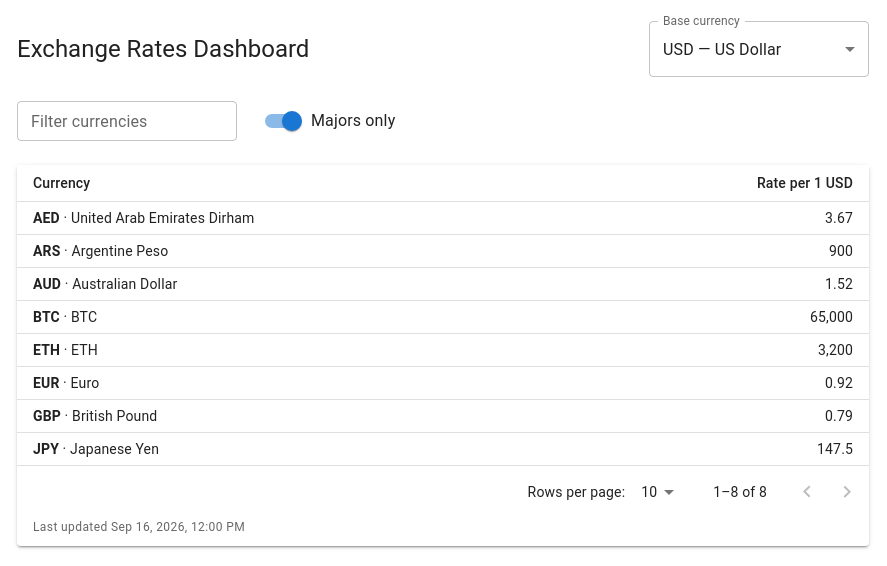
ExchangeRatesPage › filters the table by code prefix as the user types
Expected: the text "EUR" is shown, 33,375 -> 60,391
Type "a" into the field labelled "Filter currencies" at (127,121), box 17,101 -> 237,141
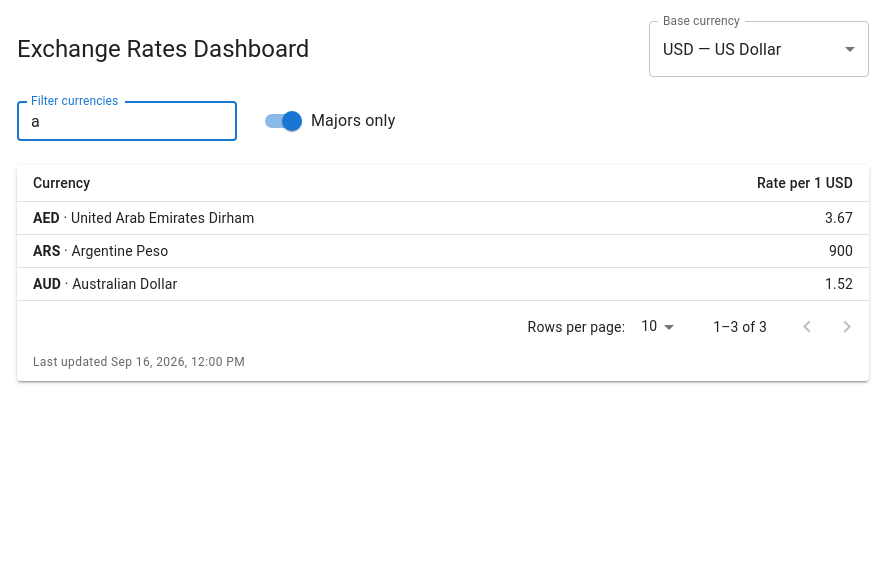
Expected: the text "AED" is shown, 33,210 -> 60,226
Expected: the text "EUR" is gone
Type "e" into the field labelled "Filter currencies" at (127,121), box 17,101 -> 237,141
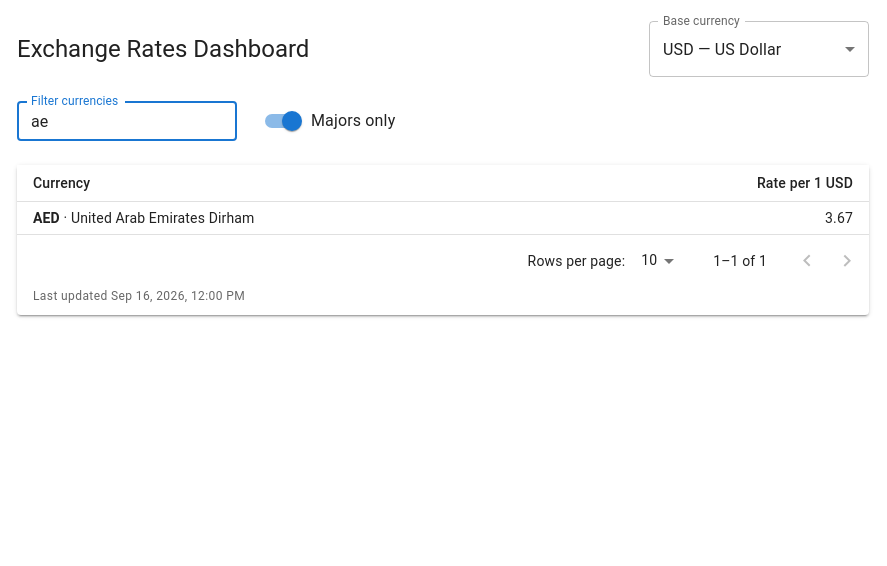
Expected: the text "AED" is shown, 33,210 -> 60,226
Expected: the text "ARS" is gone
Expected: the text "AUD" is gone
